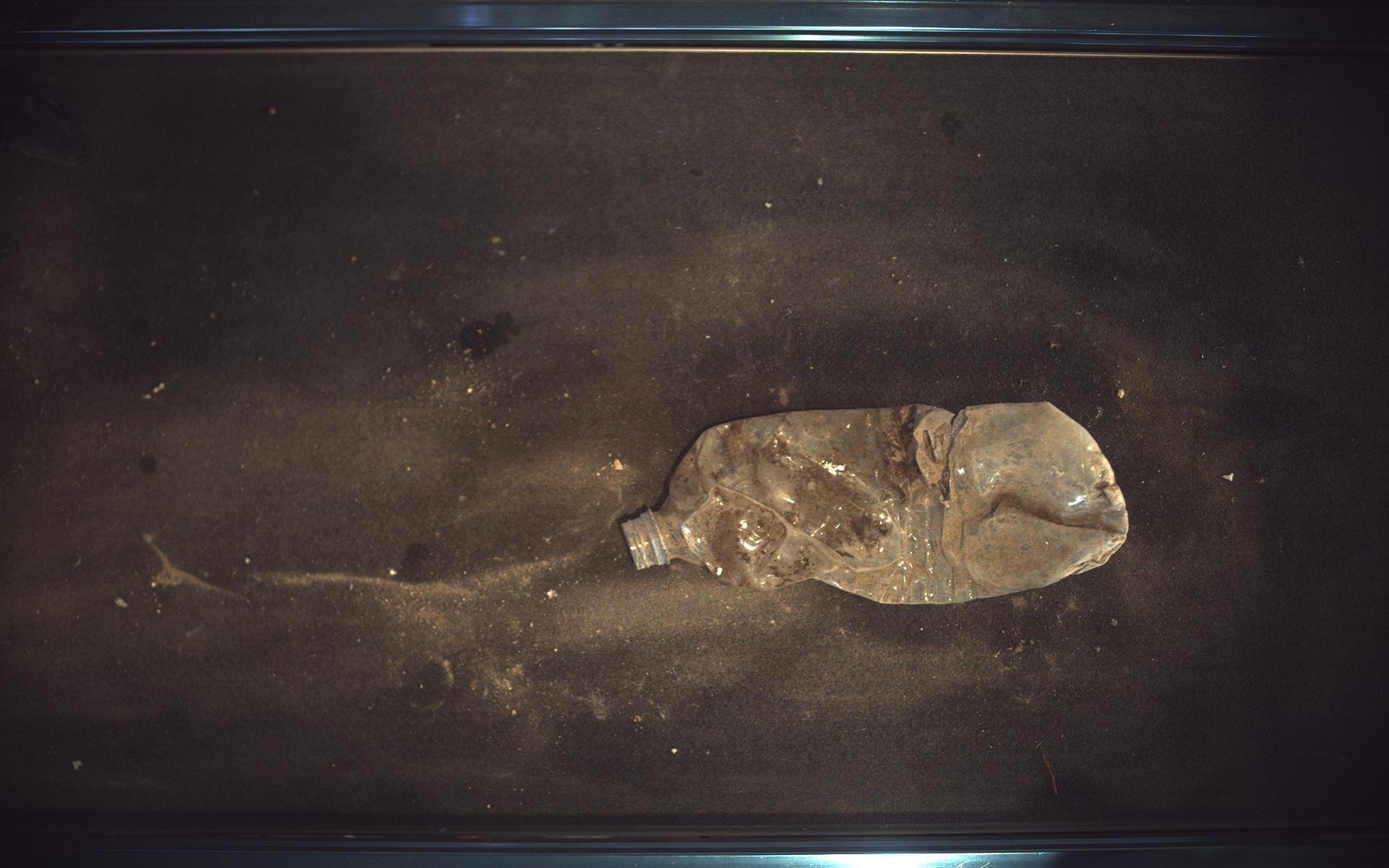general_w: (623, 402, 1131, 605)
